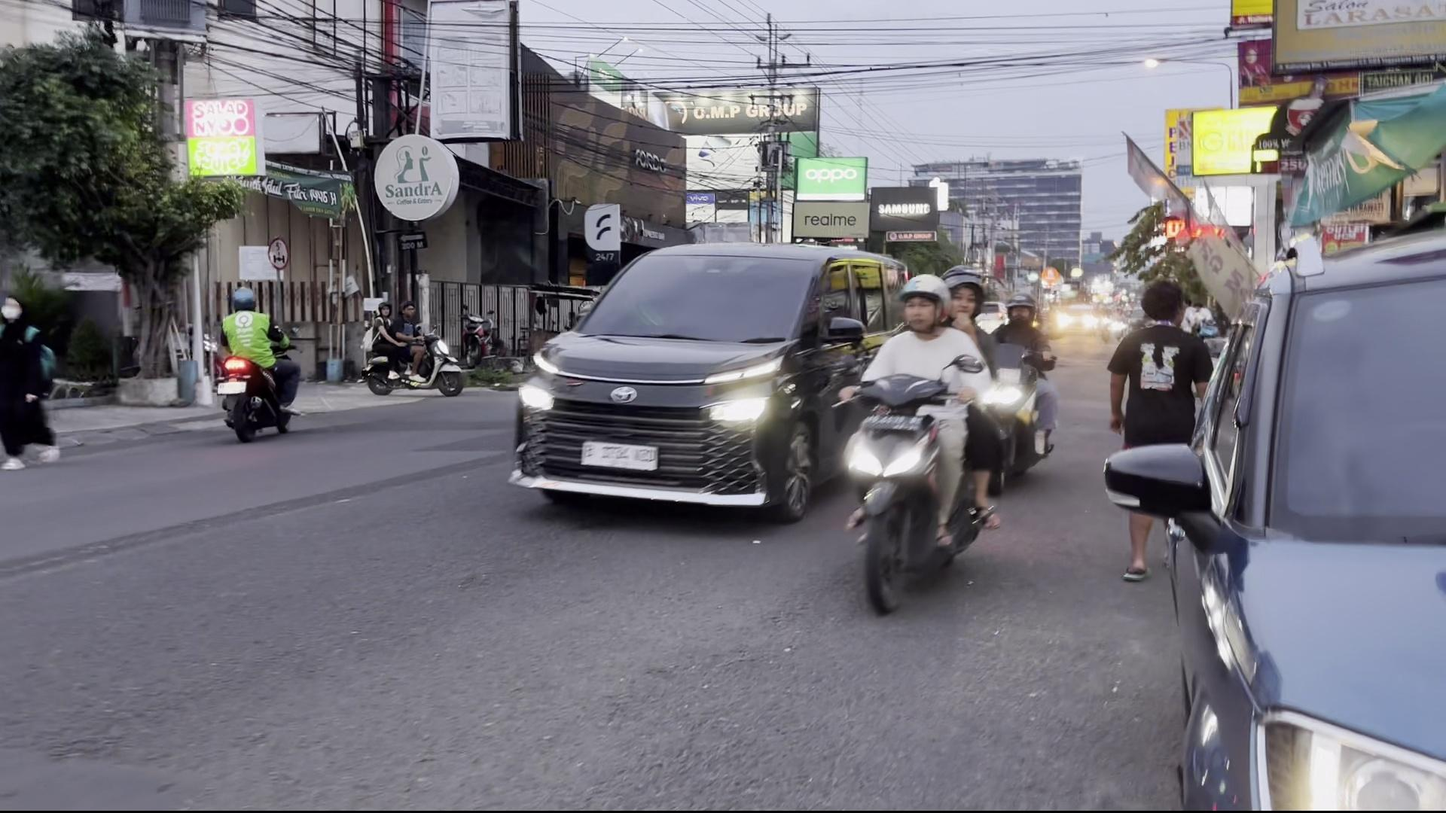helm: (893, 266, 952, 338), (940, 261, 989, 332)
riding: (835, 259, 1007, 622)
